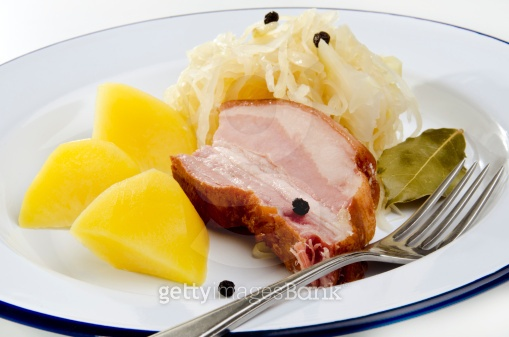boiled potatoes: (82, 170, 219, 283), (84, 80, 201, 177), (22, 137, 142, 229)
